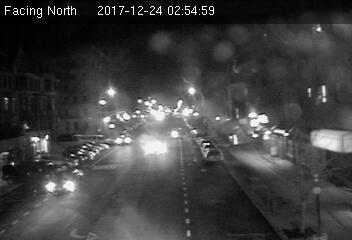car: (45, 168, 83, 195), (201, 146, 224, 162), (114, 133, 133, 146)
